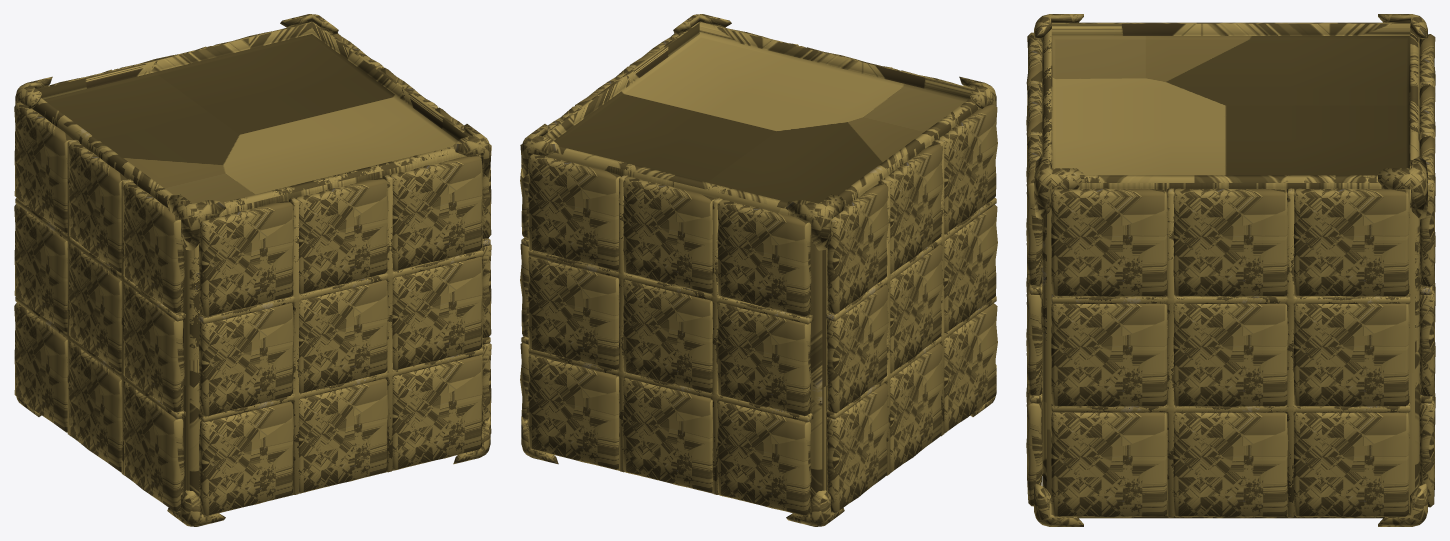
3 views of the same model, side by side, from view 1: azimuth 30°, elevation 25°; view 2: azimuth 150°, elevation 25°; view 3: azimuth 270°, elevation 25° (orthographic). The views are drawn at different scales.
Visible parts, largest first — view 1: grid4.001; view 2: grid4.001; view 3: grid4.001.
Part boxes in pixels (x1,y1,x2,y2): grid4.001: [14, 14, 491, 526]; grid4.001: [520, 14, 997, 526]; grid4.001: [1026, 14, 1435, 526].
Bounding box in the file's own units: 59.79 × 59.79 × 57.55.
4 materials, 4 textured.
